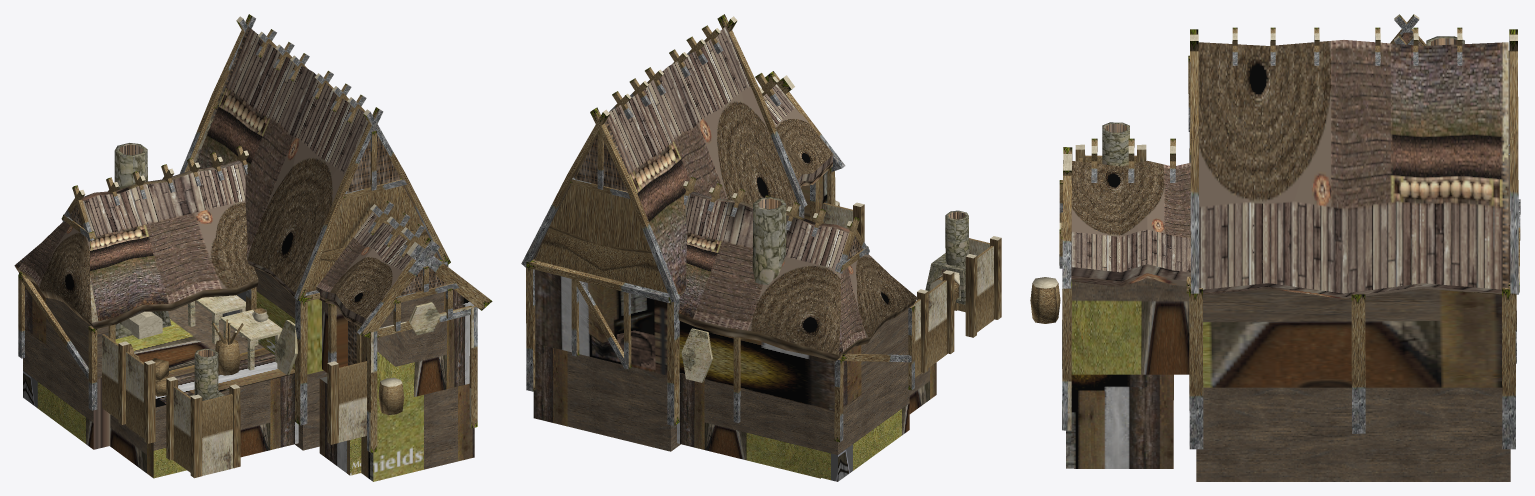
File: forge.dae
The picture shows the model from 3 angles, left to right: view 1: azimuth 30°, elevation 25°; view 2: azimuth 150°, elevation 25°; view 3: azimuth 270°, elevation 25°; orthographic projection. The views are drawn at different scales.
Visible parts, largest first — view 1: forge; view 2: forge; view 3: forge.
Part boxes in pixels (box(x1,y1,x2,y2)): forge: box(14, 14, 492, 481); forge: box(521, 14, 1001, 481); forge: box(1030, 14, 1520, 481).
Bounding box in the file's own units: 21.57 × 23.16 × 21.38.
